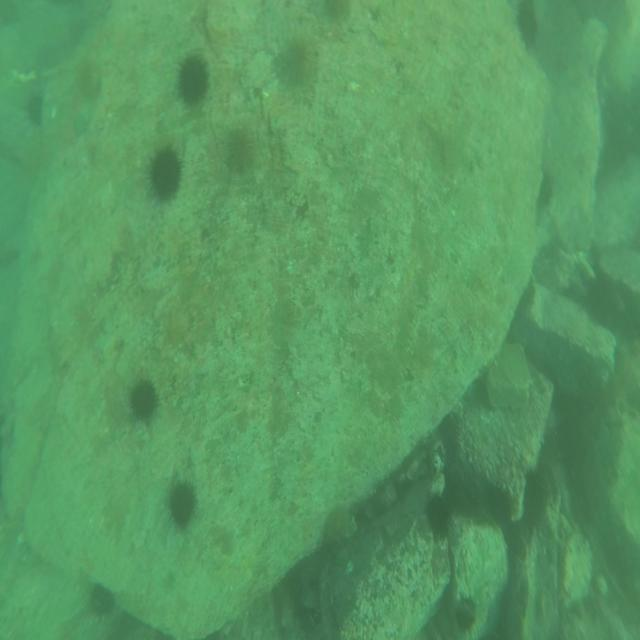echinus: (277, 23, 320, 82), (144, 144, 184, 205), (220, 120, 259, 176), (175, 52, 210, 112), (523, 461, 551, 529), (126, 377, 162, 422), (484, 473, 515, 523), (167, 478, 199, 526), (86, 581, 117, 621), (438, 411, 463, 457), (456, 594, 478, 639), (514, 9, 538, 50), (423, 496, 449, 532), (326, 505, 350, 542), (540, 162, 556, 206), (24, 92, 44, 122)
starfish: (70, 104, 92, 133)
